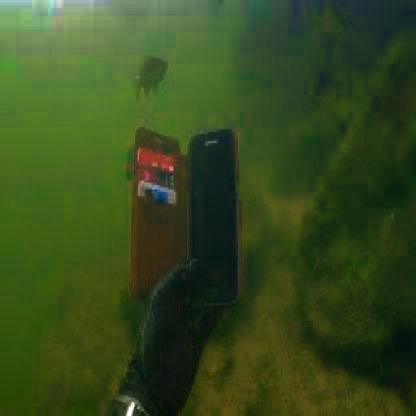cellphone: (186, 127, 240, 305)
